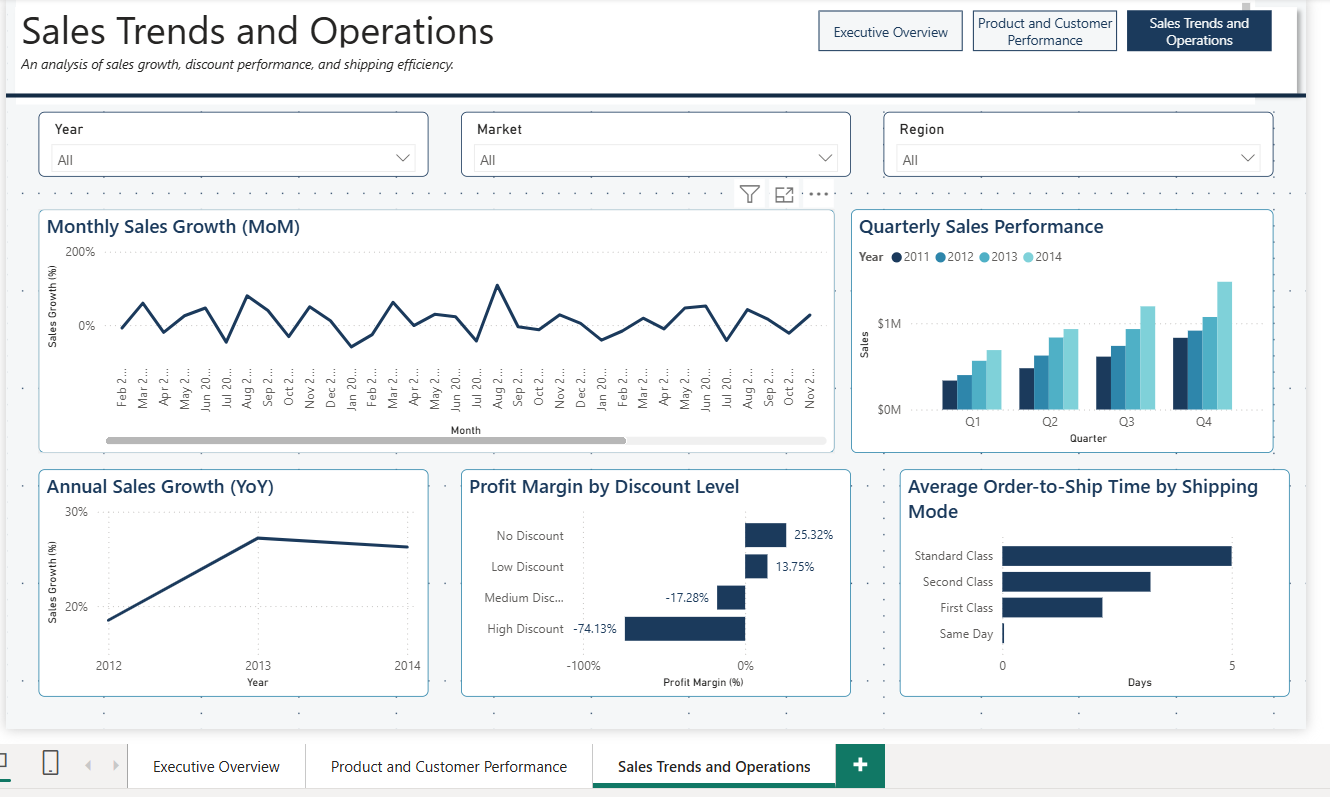

This screenshot's page, from the dashboard's own definition file:
{"tool":"powerbi","page":{"name":"Sales Trends and Operations","canvas":[1280,720],"ordinal":2},"visuals":[{"type":"shape","box":[0,0,1280,103],"z":0},{"type":"textbox","box":[10,50,1220,54],"z":1000},{"type":"textbox","box":[10,0,1220,54.1],"z":2000},{"type":"shape","box":[0,64,1280,64],"z":3000},{"type":"lineChart","title":"Monthly Sales Growth (MoM)","fields":{"Category":["cleaned.month_year"],"Y":["cleaned.MoM Sales Growth"]},"box":[32,208,784,240],"z":4000},{"type":"lineChart","title":"Annual Sales Growth (YoY)","fields":{"Category":["cleaned.Year"],"Y":["cleaned.YoY Sales Growth"]},"box":[32,464,384,224],"z":5000},{"type":"clusteredColumnChart","title":"Quarterly Sales Performance","fields":{"Category":["cleaned.quarter"],"Y":["cleaned.total_sales"],"Series":["cleaned.Year"]},"box":[832,208,416,240],"z":6000},{"type":"clusteredBarChart","title":"Profit Margin by Discount Level","fields":{"Category":["cleaned.discount_level"],"Y":["cleaned.profit_margin"]},"box":[448,464,384,224],"z":7000},{"type":"clusteredBarChart","title":"Average Order-to-Ship Time by Shipping Mode","fields":{"Category":["cleaned.ship_mode"],"Y":["cleaned.average_days_to_shipping"]},"box":[880,464,384,224],"z":8000},{"type":"pageNavigator","box":[800,12,448,40],"z":9000},{"type":"slicer","fields":{"Values":["cleaned.market"]},"box":[448,112,384,64],"z":10000},{"type":"slicer","fields":{"Values":["cleaned.Year"]},"box":[32,112,384,64],"z":11000},{"type":"slicer","fields":{"Values":["cleaned.region"]},"box":[864,112,384,64],"z":12000}]}

Visuals, with their boxes on the page's 1280x720 design canvas (x1, y1, x2, y2). These are canvas units, not pixel positions in the 1330x797 screenshot, which may show the page scaled, cropped or inside an application window:
shape: bbox=[0, 0, 1280, 103]
textbox: bbox=[10, 50, 1230, 104]
textbox: bbox=[10, 0, 1230, 54]
shape: bbox=[0, 64, 1280, 128]
"Monthly Sales Growth (MoM)" lineChart: bbox=[32, 208, 816, 448]
"Annual Sales Growth (YoY)" lineChart: bbox=[32, 464, 416, 688]
"Quarterly Sales Performance" clusteredColumnChart: bbox=[832, 208, 1248, 448]
"Profit Margin by Discount Level" clusteredBarChart: bbox=[448, 464, 832, 688]
"Average Order-to-Ship Time by Shipping Mode" clusteredBarChart: bbox=[880, 464, 1264, 688]
pageNavigator: bbox=[800, 12, 1248, 52]
slicer - cleaned.market: bbox=[448, 112, 832, 176]
slicer - cleaned.Year: bbox=[32, 112, 416, 176]
slicer - cleaned.region: bbox=[864, 112, 1248, 176]
